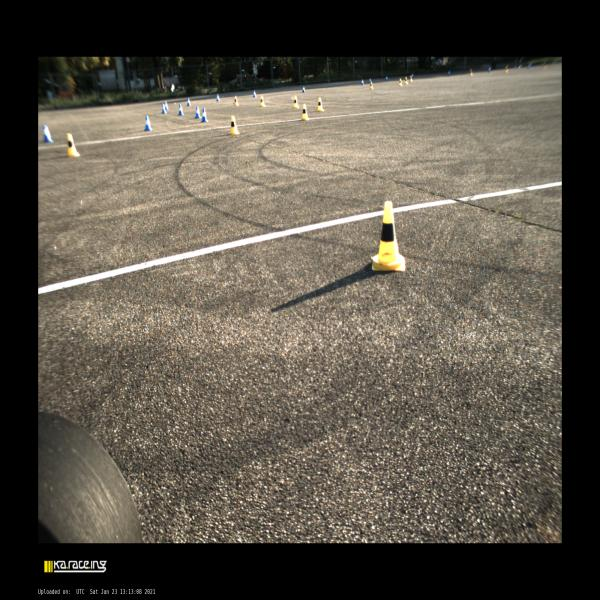blue_cone: (43, 125, 53, 142), (145, 115, 152, 130), (202, 108, 209, 122), (194, 106, 202, 118), (178, 104, 184, 115), (161, 104, 167, 114), (165, 102, 169, 110), (187, 98, 191, 106), (216, 94, 220, 101), (253, 90, 256, 97), (302, 86, 305, 92), (361, 79, 364, 85), (488, 67, 491, 72), (370, 78, 372, 83), (386, 76, 388, 81), (448, 70, 450, 75), (528, 64, 530, 69), (412, 74, 413, 77)
yellow_cone: (372, 201, 405, 271), (68, 134, 80, 156), (230, 116, 239, 134), (302, 104, 309, 120), (317, 97, 324, 111), (293, 96, 299, 108), (260, 95, 266, 107), (234, 95, 239, 106), (398, 78, 402, 86), (370, 81, 373, 89), (470, 68, 473, 76), (405, 77, 408, 84), (505, 66, 508, 72), (542, 63, 545, 69), (410, 75, 412, 82)
